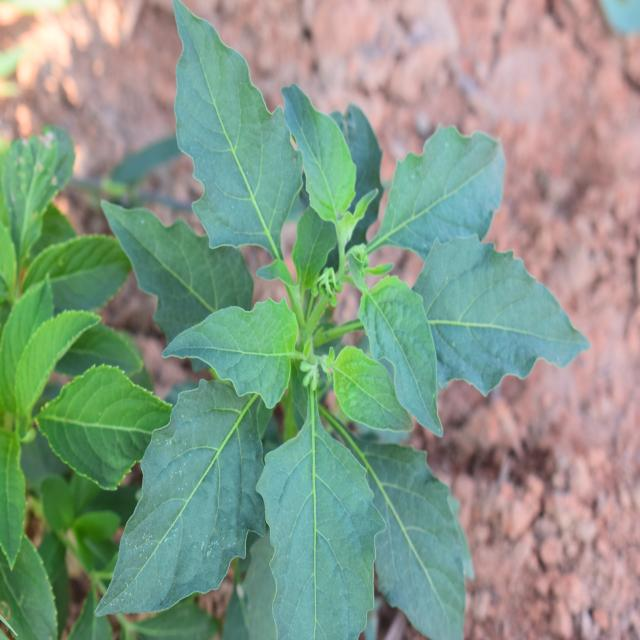Black_nightshade: (131, 27, 543, 631)
